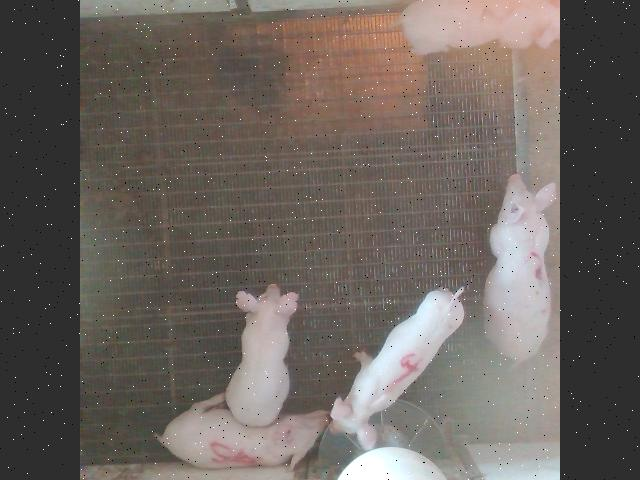pig-2: (400, 0, 559, 54)
pig-3: (484, 174, 556, 365)
pig-4: (330, 288, 464, 449)
pig-5: (155, 392, 329, 468)
